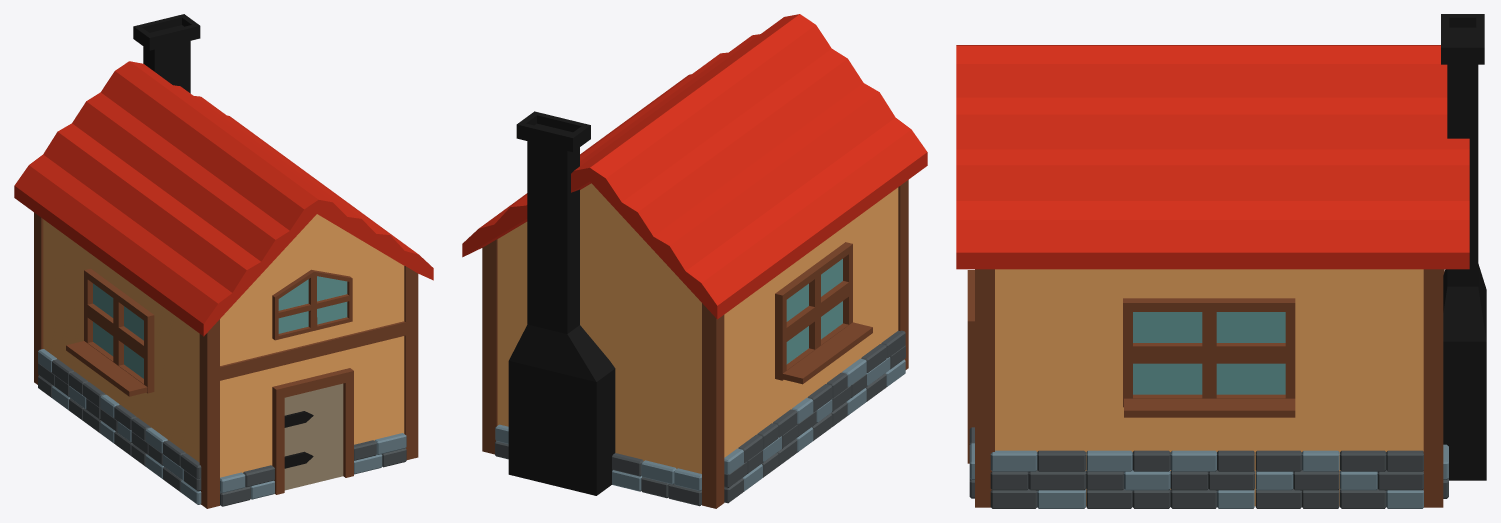
The model's file is House_5.glb.
The picture shows the model from 3 angles, left to right: view 1: azimuth 30°, elevation 25°; view 2: azimuth 150°, elevation 25°; view 3: azimuth 270°, elevation 25°; orthographic projection. The views are drawn at different scales.
Parts seen in each view (by area): view 1: House 5; view 2: House 5; view 3: House 5.
Part boxes in pixels (left/top/right/bottom): House 5: left=14, top=14, right=433, bottom=508; House 5: left=462, top=14, right=927, bottom=508; House 5: left=956, top=14, right=1486, bottom=508.
Size of the model in its own units: 4.24 by 4.99 by 5.58.
